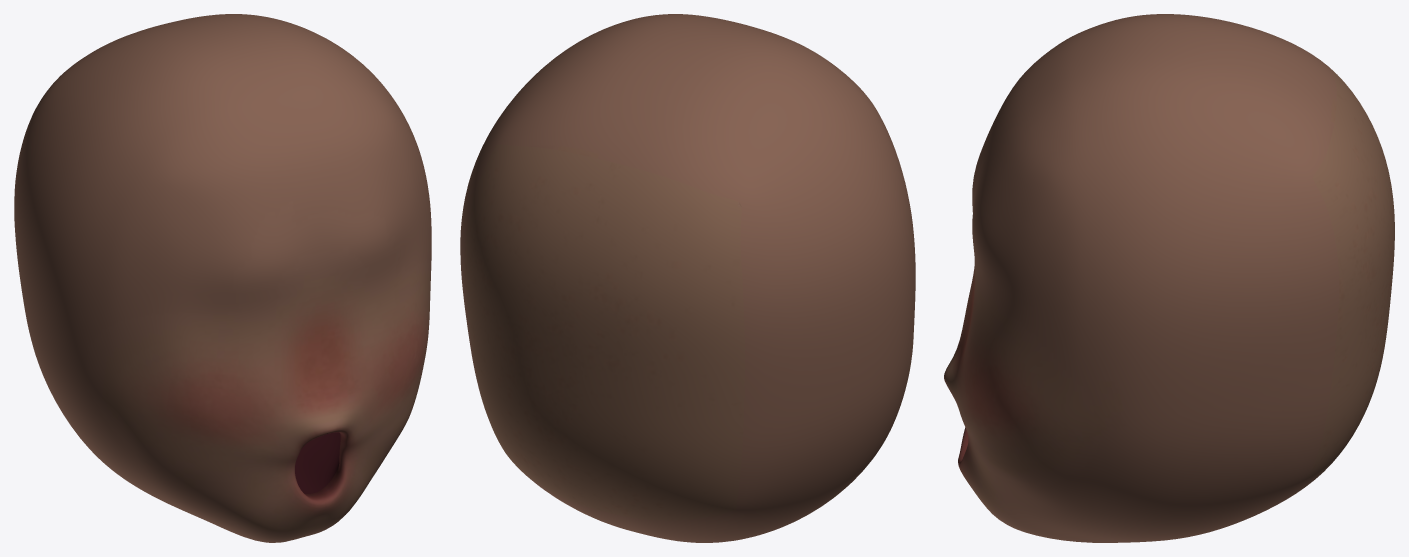
The model's file is head5.glb.
3 views of the same model, side by side, from view 1: azimuth 30°, elevation 25°; view 2: azimuth 150°, elevation 25°; view 3: azimuth 270°, elevation 25° (orthographic). The views are drawn at different scales.
Visible parts, largest first — view 1: head.005; view 2: head.005; view 3: head.005.
Part boxes in pixels (x1,y1,x2,y2): head.005: (14, 14, 431, 542); head.005: (460, 14, 915, 542); head.005: (944, 14, 1394, 542).
Bounding box in the file's own units: 1.35 × 1.65 × 1.37.
1 material, 1 textured.
